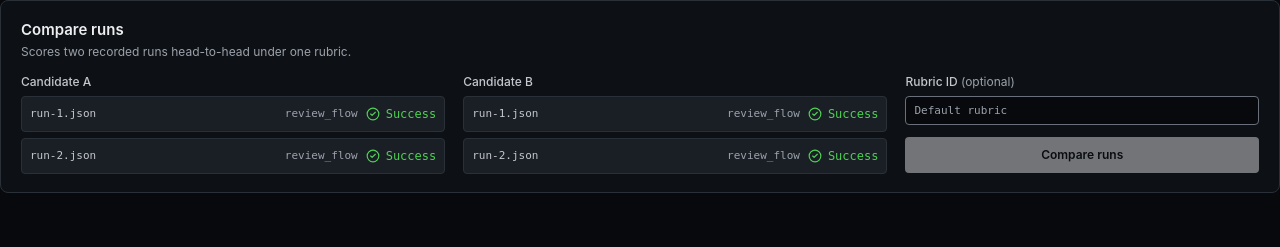
Test: RunComparePanel › renders the server detail with a remedy instead of the raw status line
Click the button with aria-label "pick run-1.json for candidate A".
click(63, 114)  # box [21,96,445,132]
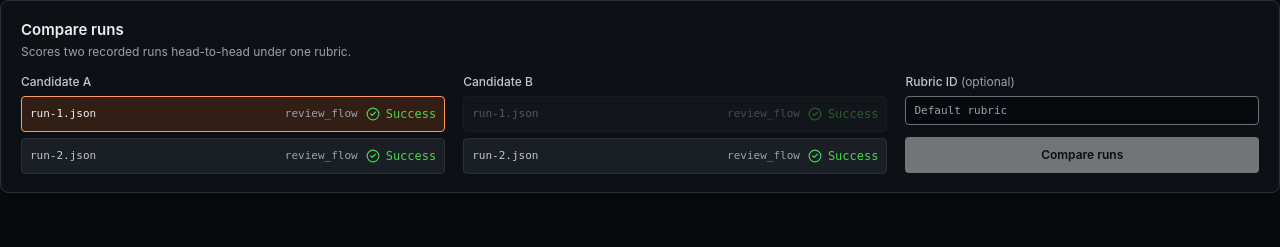
Click the button with aria-label "pick run-2.json for candidate B".
click(505, 156)  # box [463,138,887,174]
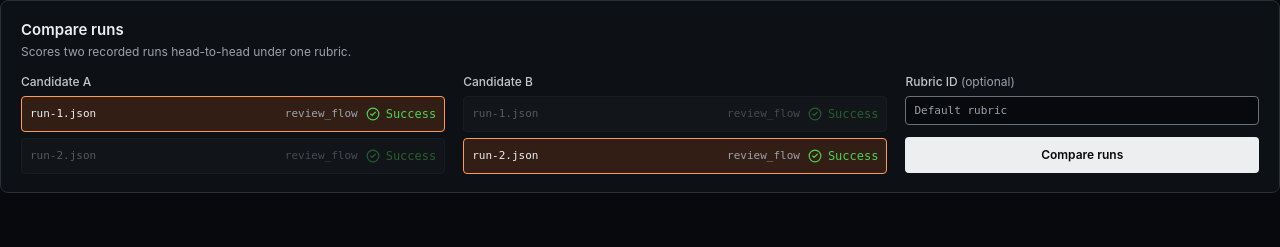
Click the button "Compare runs".
click(1082, 154)  # box [906,136,1259,172]
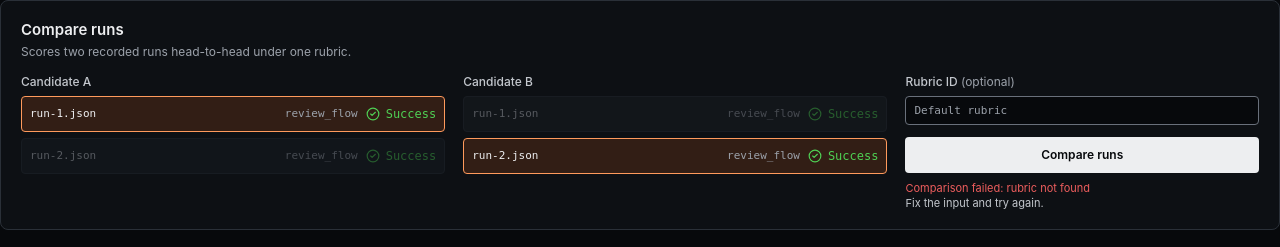
Check: the message does not show "API 422", box [906,180,1090,210]
Check: the message shows "Comparison failed: rubric not found", box [906,180,1090,210]
Check: the message shows "Fix the input and try again", box [906,196,1044,210]
